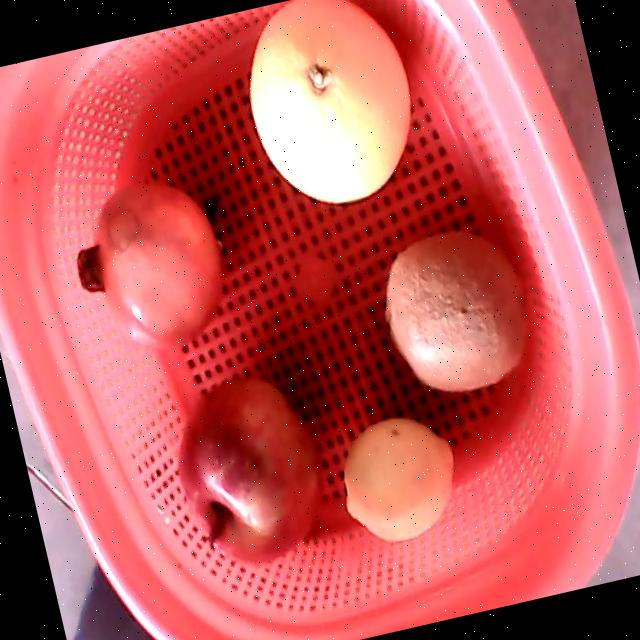apple: (175, 374, 323, 566)
kiwi: (382, 229, 529, 391)
lemon: (342, 417, 454, 541)
orange: (248, 0, 409, 202)
pomegranate: (75, 180, 225, 350)
